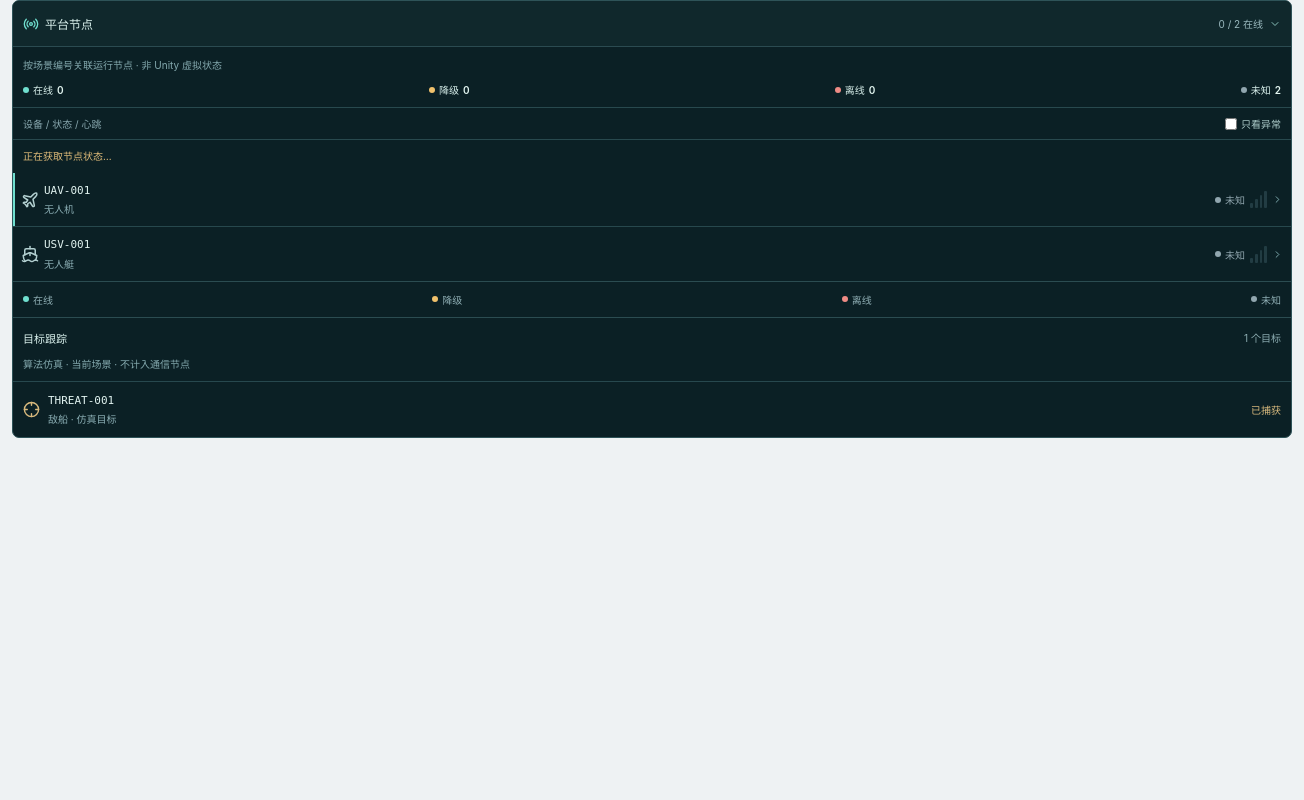
NodeCommunicationPanel › retains collapse state and expanded device across monitoring refreshes
This screenshot has width=1304, height=800.
Click the button "UAV-001 无人机 未知" at {"x": 67, "y": 190}, box x1=13 y1=173 x2=1291 y2=226
Wait 5000 ms
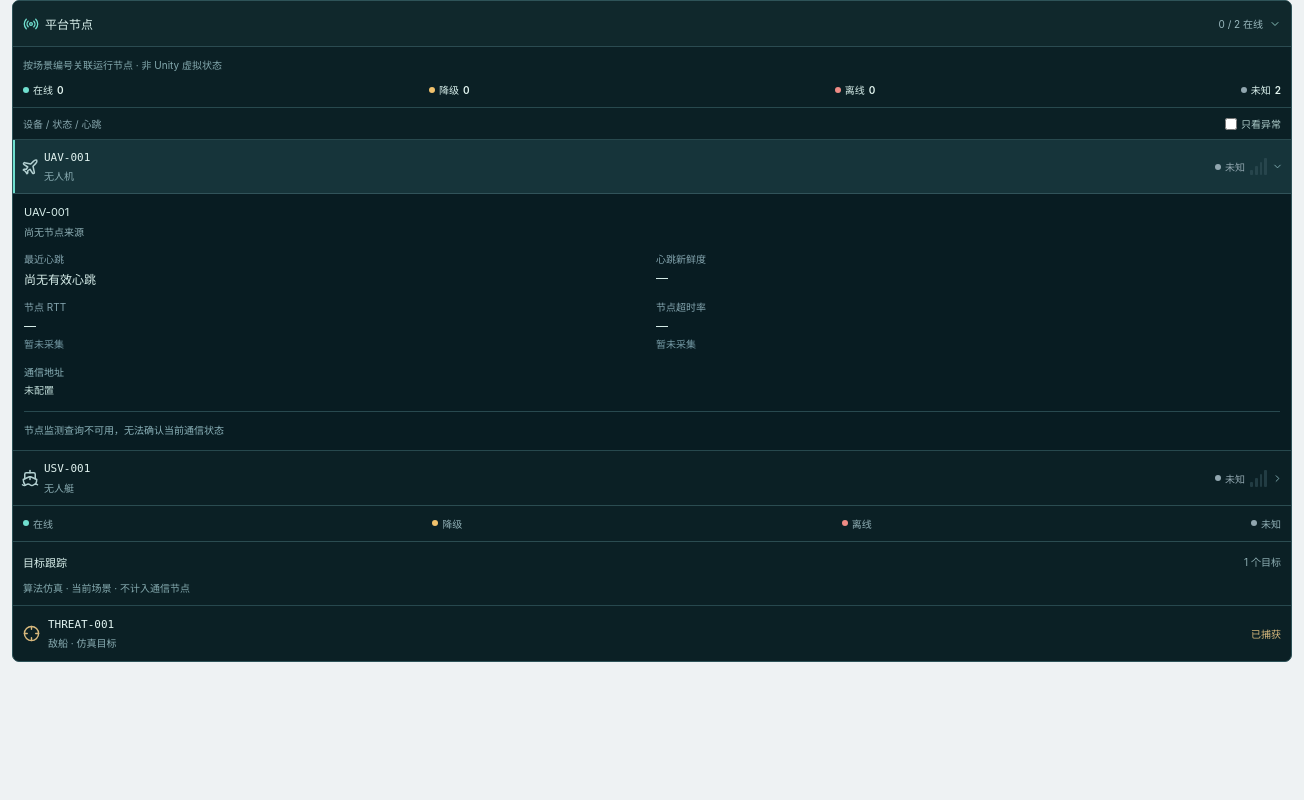
Check: the button "UAV-001 无人机 未知" is expanded, box x1=13 y1=140 x2=1291 y2=193
